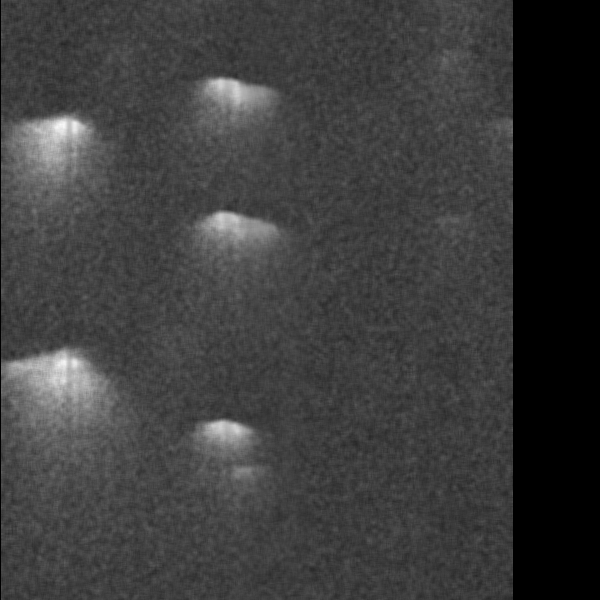spark: (171, 308, 223, 348), (149, 76, 177, 150), (29, 323, 70, 365), (109, 256, 177, 281), (130, 454, 180, 487)
